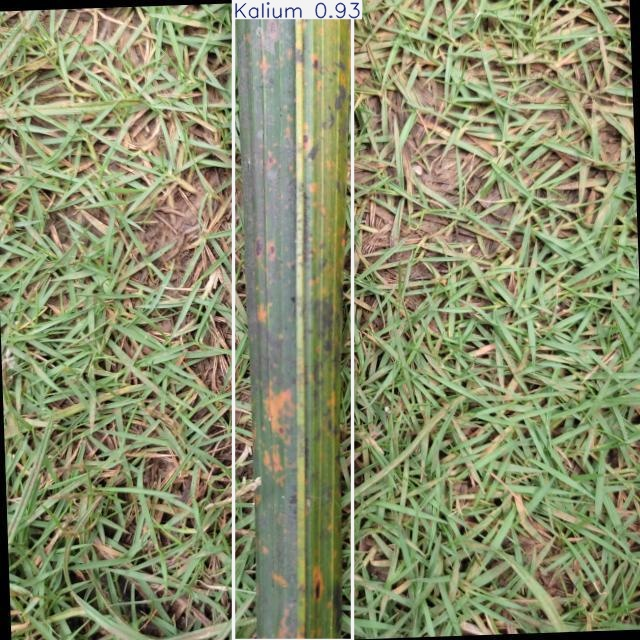Kalium: (233, 1, 352, 640)
